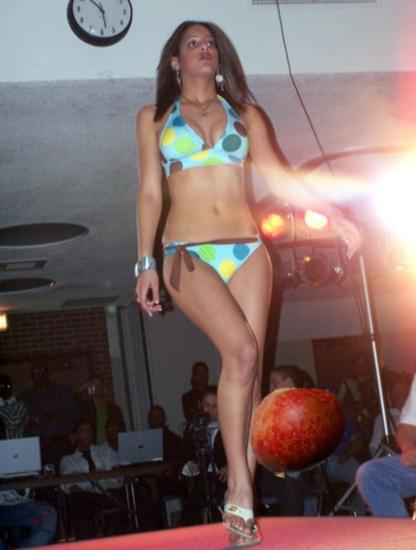Nectarine: (248, 382, 347, 481)
